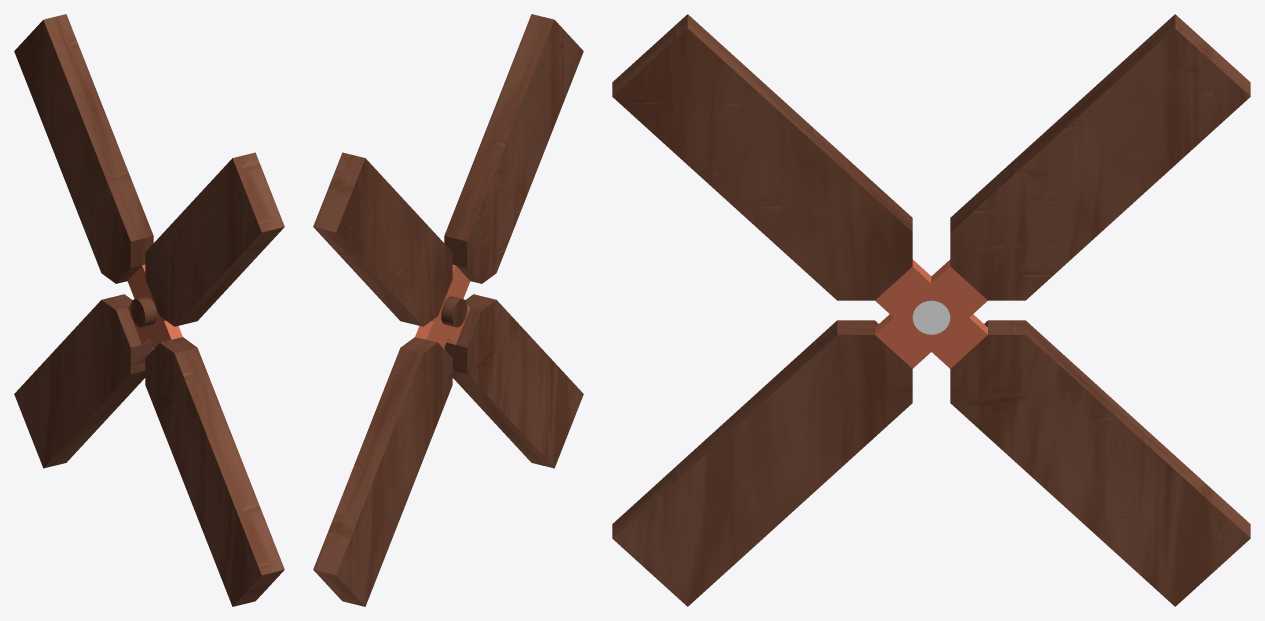
File: Level_2_2-Items.fbx
The picture shows the model from 3 angles, left to right: view 1: azimuth 30°, elevation 25°; view 2: azimuth 150°, elevation 25°; view 3: azimuth 270°, elevation 25°; orthographic projection. The views are drawn at different scales.
Visible parts, largest first — view 1: building_windmillWicks; view 2: building_windmillWicks; view 3: building_windmillWicks.
Boxes of the visible parts, x1,y1,x2,y2 form: building_windmillWicks: [14, 14, 284, 606]; building_windmillWicks: [313, 14, 583, 606]; building_windmillWicks: [612, 14, 1250, 606].
Size of the model in its own units: 0.88 by 16.37 by 16.37.
Materials: 3 (1 with a texture image).
